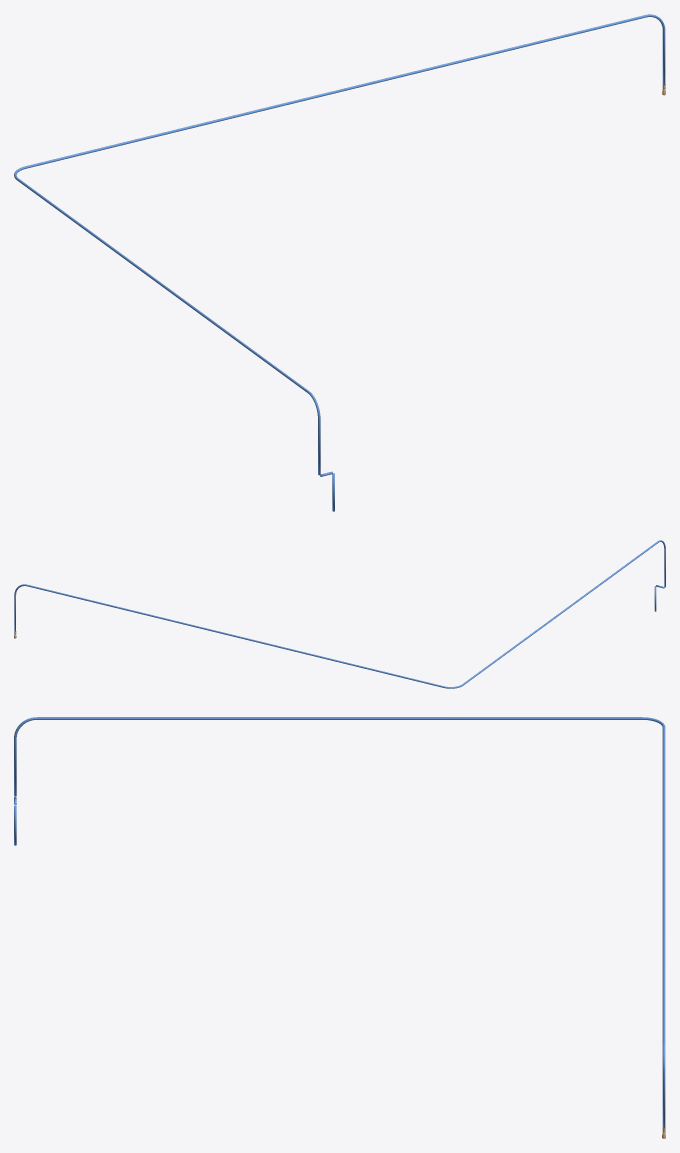
Rendered from slab_pipes_supply__water__0b25bcce__r4t.glb.
3 views of the same model, one above another, from view 1: azimuth 30°, elevation 25°; view 2: azimuth 150°, elevation 25°; view 3: azimuth 270°, elevation 25° (orthographic). The views are drawn at different scales.
Visible parts, largest first — view 1: pipe_supply_well_to_softener_fs__pex; view 2: pipe_supply_well_to_softener_fs__pex; view 3: pipe_supply_well_to_softener_fs__pex.
Part boxes in pixels (bbox=[...]): pipe_supply_well_to_softener_fs__pex: bbox=[14, 14, 665, 511]; pipe_supply_well_to_softener_fs__pex: bbox=[14, 540, 665, 688]; pipe_supply_well_to_softener_fs__pex: bbox=[14, 717, 665, 1129].
Bounding box in the file's own units: 6.45 × 1.08 × 5.31.
